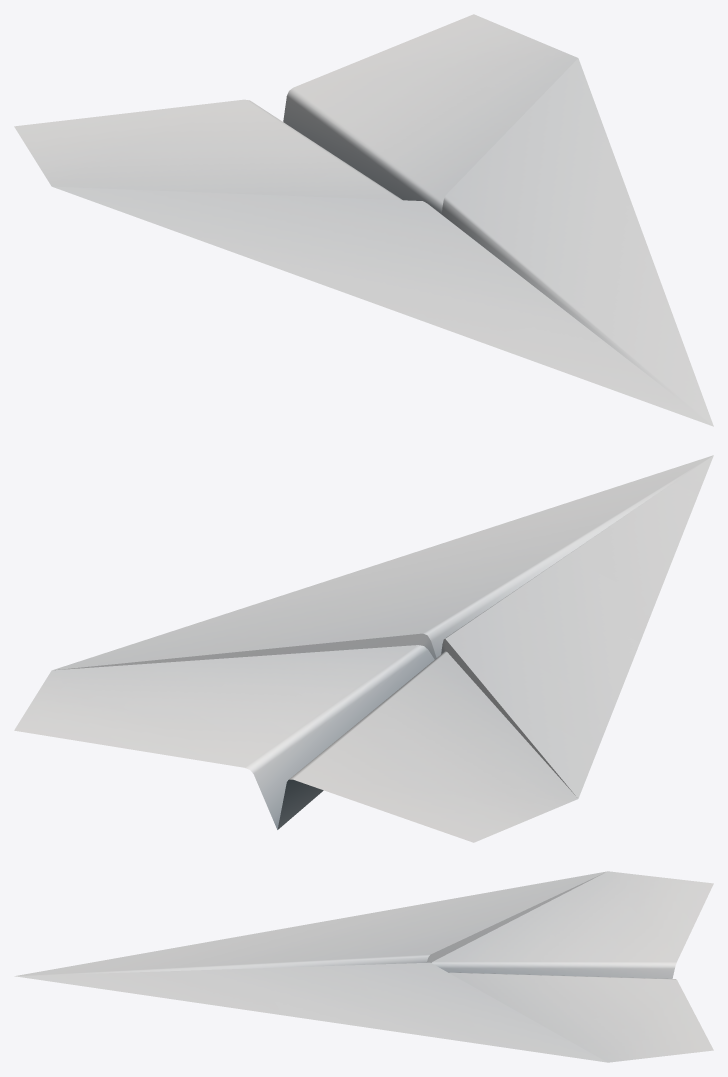
The model's file is PaperPlane.glb.
3 views of the same model, one above another, from view 1: azimuth 30°, elevation 25°; view 2: azimuth 150°, elevation 25°; view 3: azimuth 270°, elevation 25° (orthographic). The views are drawn at different scales.
Visible parts, largest first — view 1: PaperPlane_GEO; view 2: PaperPlane_GEO; view 3: PaperPlane_GEO.
Boxes of the visible parts, x1,y1,x2,y2 form: PaperPlane_GEO: [14, 14, 713, 426]; PaperPlane_GEO: [14, 455, 713, 842]; PaperPlane_GEO: [14, 871, 713, 1062].
Bounding box in the file's own units: 6.87 × 0.9892 × 10.62.
1 material, 1 textured.
